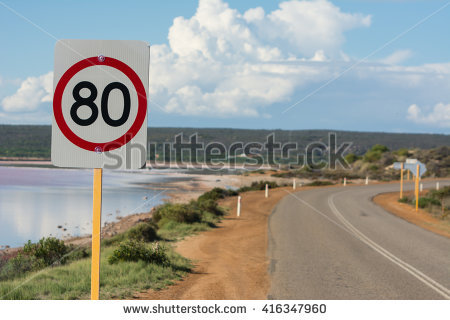Speed_limit_80km: (52, 56, 149, 153)
